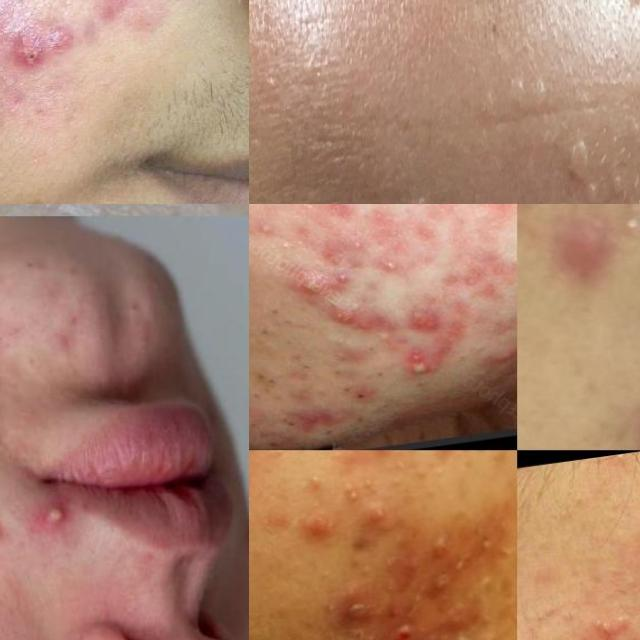acne_scars: (593, 363, 640, 450), (0, 299, 23, 378), (0, 515, 27, 554), (0, 409, 15, 478)
comedone: (332, 468, 368, 508), (280, 350, 320, 381), (279, 302, 320, 332), (249, 364, 281, 402), (270, 240, 305, 268), (472, 559, 498, 595), (617, 210, 640, 248), (250, 322, 281, 349), (323, 365, 351, 387), (279, 411, 301, 435), (261, 300, 286, 320), (350, 410, 371, 430), (494, 450, 517, 468), (358, 339, 381, 356), (278, 332, 298, 351), (249, 418, 267, 438), (370, 364, 390, 382), (317, 425, 337, 441), (340, 382, 358, 399)
crystanlline: (12, 23, 91, 74)
flat_wart: (479, 57, 558, 134), (568, 120, 603, 204), (612, 0, 640, 35), (404, 180, 437, 204)
keloid: (461, 342, 517, 374)
papule: (531, 207, 634, 291), (280, 511, 320, 562), (325, 587, 374, 611)
pustule: (350, 498, 408, 547), (30, 491, 78, 542), (394, 348, 443, 384), (341, 232, 376, 256), (360, 450, 396, 472), (374, 255, 402, 279)
sebo-crystan-conglo: (288, 262, 362, 298), (325, 298, 384, 341), (406, 308, 445, 338), (380, 622, 419, 640)
